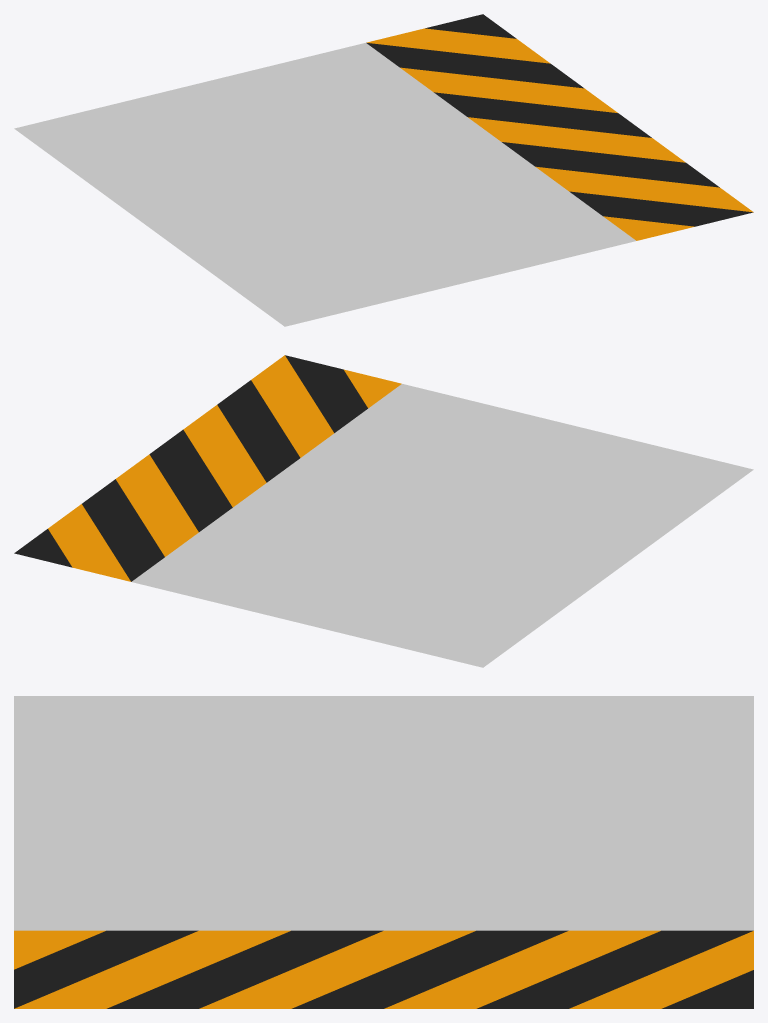
The model's file is Factory-Marked.fbx.
The picture shows the model from 3 angles, top to bottom: view 1: azimuth 30°, elevation 25°; view 2: azimuth 150°, elevation 25°; view 3: azimuth 270°, elevation 25°; orthographic projection. The views are drawn at different scales.
Parts seen in each view (by area): view 1: Plane, Plane.001; view 2: Plane, Plane.001; view 3: Plane, Plane.001.
Boxes of the visible parts, x1,y1,x2,y2 form: Plane: [14, 43, 635, 326]; Plane.001: [366, 14, 753, 240]; Plane: [132, 384, 753, 667]; Plane.001: [14, 355, 401, 581]; Plane: [14, 696, 753, 930]; Plane.001: [14, 930, 753, 1008].
Size of the model in its own units: 1000 by 0.000163 by 1000.
Materials: 1 (1 with a texture image).
